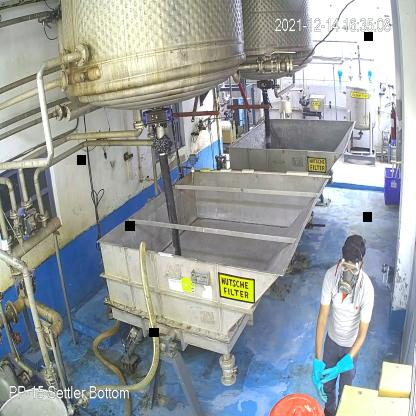goggles: (339, 260, 360, 278)
mask: (339, 271, 359, 296)
